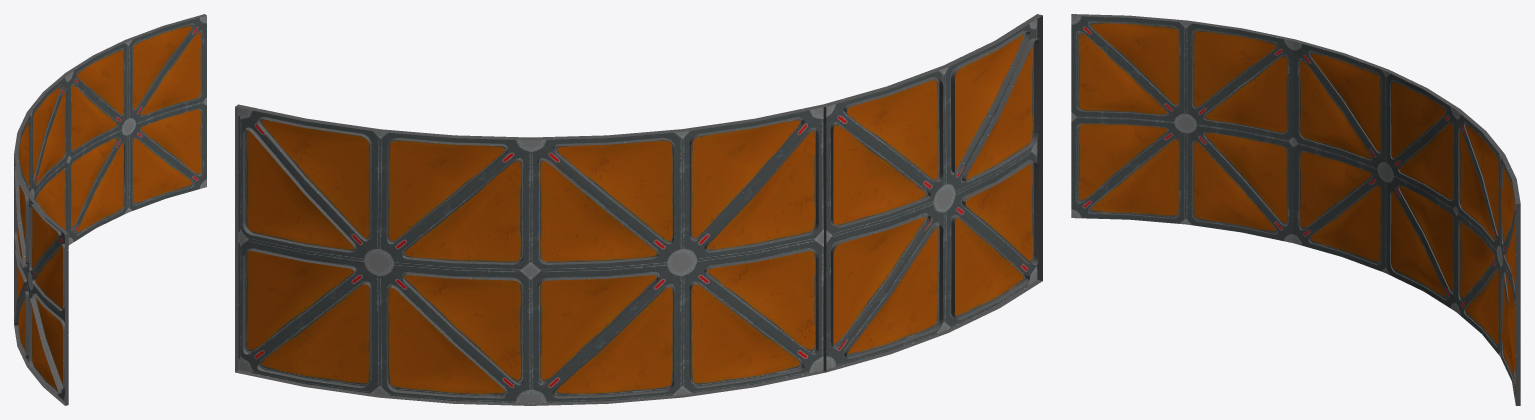
File: TopPadded_Flat_Curve_Round_Inner.glb
3 views of the same model, side by side, from view 1: azimuth 30°, elevation 25°; view 2: azimuth 150°, elevation 25°; view 3: azimuth 270°, elevation 25° (orthographic). The views are drawn at different scales.
Parts seen in each view (by area): view 1: TopPadded_Flat_Curve_Round_Inner; view 2: TopPadded_Flat_Curve_Round_Inner; view 3: TopPadded_Flat_Curve_Round_Inner.
Boxes of the visible parts, box(x1,y1,x2,y2) form: TopPadded_Flat_Curve_Round_Inner: box(14, 14, 206, 405); TopPadded_Flat_Curve_Round_Inner: box(235, 14, 1042, 405); TopPadded_Flat_Curve_Round_Inner: box(1071, 14, 1520, 405).
Size of the model in its own units: 4.03 by 2 by 4.03.
Materials: 2 (2 with a texture image).
